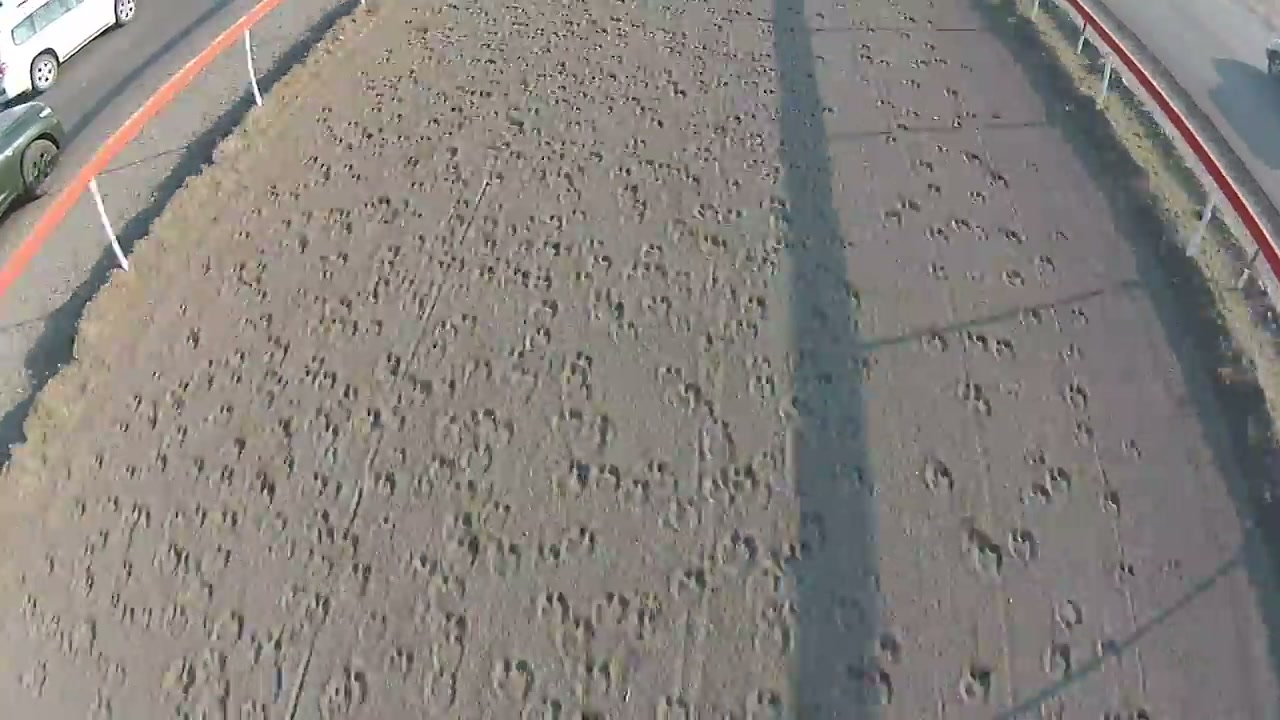animal_footprint: (0, 0, 1219, 719)
